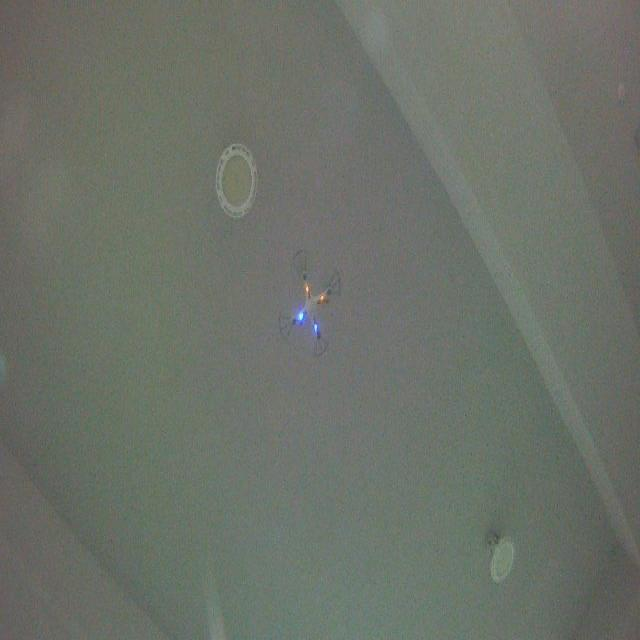drone: (278, 247, 344, 359)
